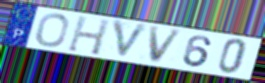0: (218, 38, 250, 76)
6: (183, 34, 213, 68)
H: (66, 14, 112, 57)
O: (34, 12, 71, 48)
V: (111, 18, 152, 62), (148, 26, 185, 64)
